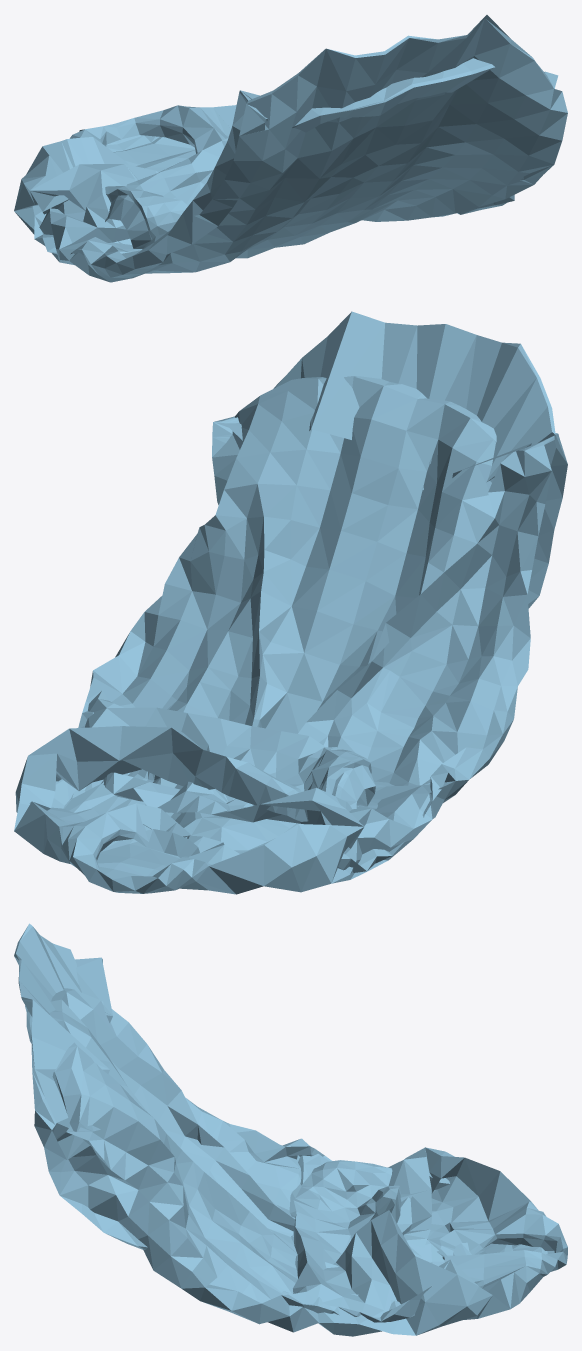
Rendered from frame_05.glb.
3 views of the same model, one above another, from view 1: azimuth 30°, elevation 25°; view 2: azimuth 150°, elevation 25°; view 3: azimuth 270°, elevation 25° (orthographic). The views are drawn at different scales.
Visible parts, largest first — view 1: frame_05.obj; view 2: frame_05.obj; view 3: frame_05.obj.
Part boxes in pixels (x1,y1,x2,y2): frame_05.obj: (14, 15, 567, 282); frame_05.obj: (14, 311, 567, 894); frame_05.obj: (14, 923, 567, 1336).
Bounding box in the file's own units: 1.07 × 0.9393 × 1.52.
